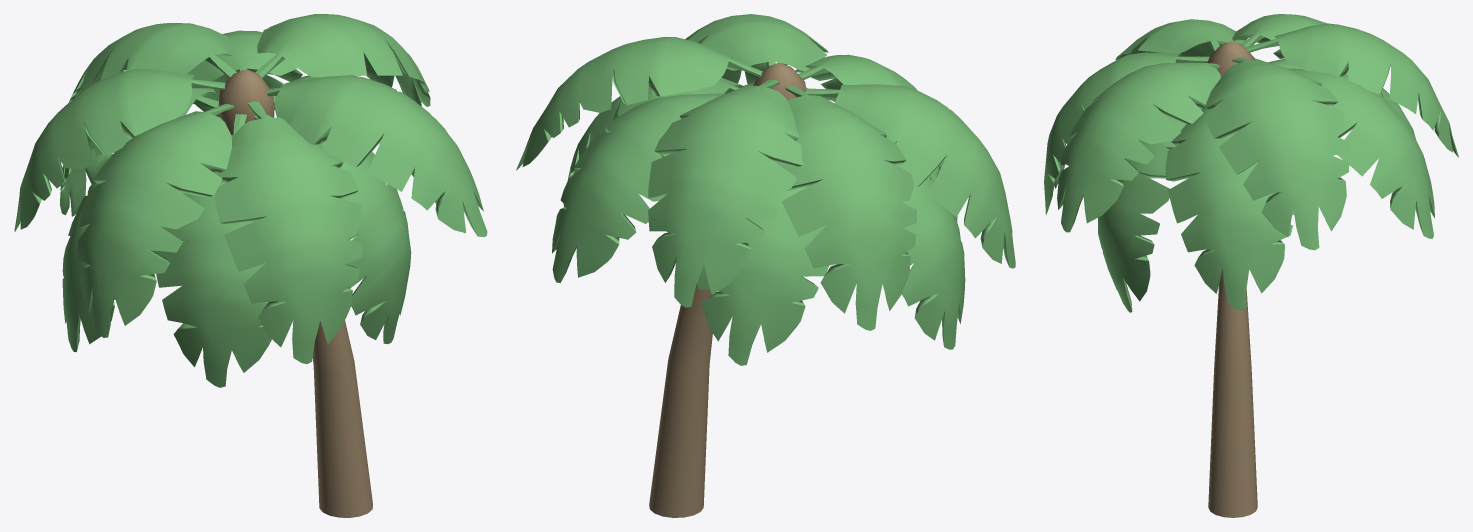
File: Palm_B.fbx
3 renders of one model, left to right at view 1: azimuth 30°, elevation 25°; view 2: azimuth 150°, elevation 25°; view 3: azimuth 270°, elevation 25°, orthographic. The views are drawn at different scales.
Parts seen in each view (by area): view 1: Frond19, Frond16, Frond20, Frond17, Frond14, Palm_Trunk_B, Frond21, Frond18, Frond12, Frond, Frond15, Frond13; view 2: Frond12, Frond14, Frond16, Frond, Palm_Trunk_B, Frond13, Frond21, Frond15, Frond20, Frond19, Frond22; view 3: Frond21, Frond20, Frond22, Palm_Trunk_B, Frond, Frond12, Frond18, Frond19, Frond16, Frond14.
Part boxes in pixels (left/top/right/bottom): Frond19: left=214, top=101, right=363, bottom=364; Frond16: left=77, top=103, right=234, bottom=337; Frond20: left=266, top=75, right=487, bottom=237; Frond17: left=154, top=114, right=271, bottom=387; Frond14: left=14, top=69, right=225, bottom=231; Palm_Trunk_B: left=218, top=69, right=372, bottom=517; Frond21: left=255, top=14, right=430, bottom=106; Frond18: left=253, top=115, right=411, bottom=343; Frond12: left=69, top=23, right=236, bottom=101; Frond: left=187, top=30, right=302, bottom=116; Frond15: left=62, top=181, right=153, bottom=352; Frond13: left=59, top=79, right=218, bottom=216; Frond12: left=648, top=79, right=803, bottom=307; Frond14: left=776, top=86, right=916, bottom=330; Frond16: left=805, top=84, right=1015, bottom=268; Frond: left=552, top=93, right=725, bottom=283; Palm_Trunk_B: left=649, top=62, right=806, bottom=517; Frond13: left=697, top=185, right=828, bottom=365; Frond21: left=516, top=37, right=762, bottom=170; Frond15: left=901, top=175, right=965, bottom=349; Frond20: left=685, top=14, right=828, bottom=93; Frond19: left=795, top=54, right=944, bottom=161; Frond22: left=563, top=77, right=743, bottom=206; Frond21: left=1204, top=57, right=1349, bottom=250; Frond20: left=1057, top=62, right=1220, bottom=232; Frond22: left=1165, top=108, right=1294, bottom=310; Palm_Trunk_B: left=1207, top=41, right=1257, bottom=517; Frond: left=1288, top=68, right=1434, bottom=238; Frond12: left=1245, top=23, right=1458, bottom=157; Frond18: left=1098, top=109, right=1201, bottom=312; Frond19: left=1044, top=52, right=1209, bottom=214; Frond16: left=1115, top=19, right=1254, bottom=59; Frond14: left=1232, top=14, right=1326, bottom=58.
Bounding box in the file's own units: 5.68 × 6.35 × 5.54.
